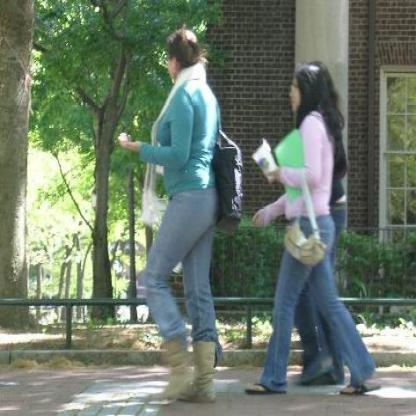person: (114, 27, 236, 402), (250, 56, 376, 396)
